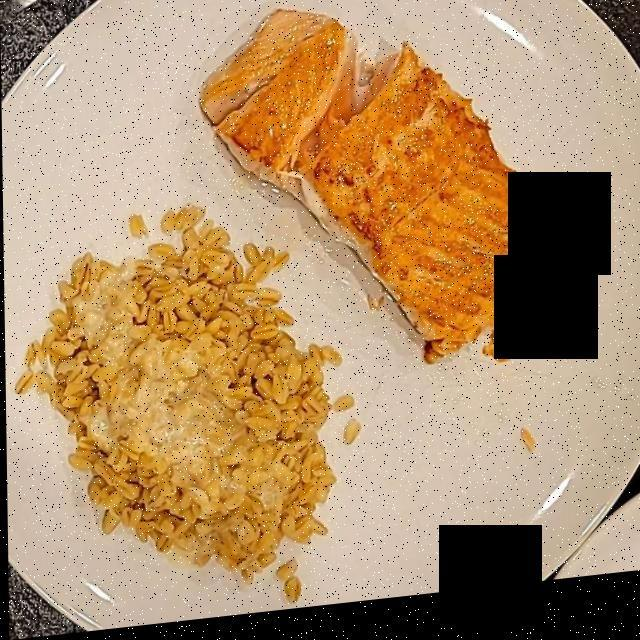salmon: (200, 17, 542, 370)
